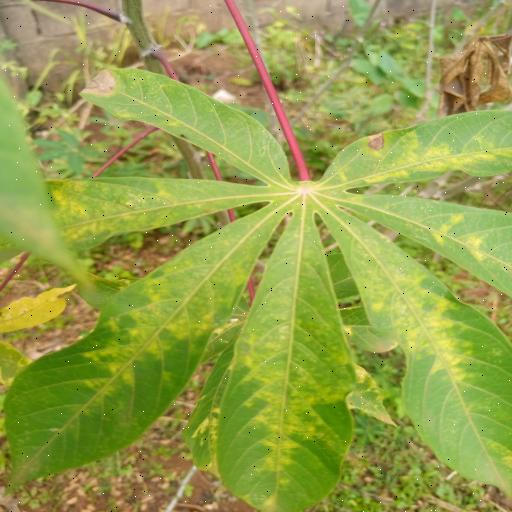Cassava_Mosaic: (5, 67, 512, 512)
